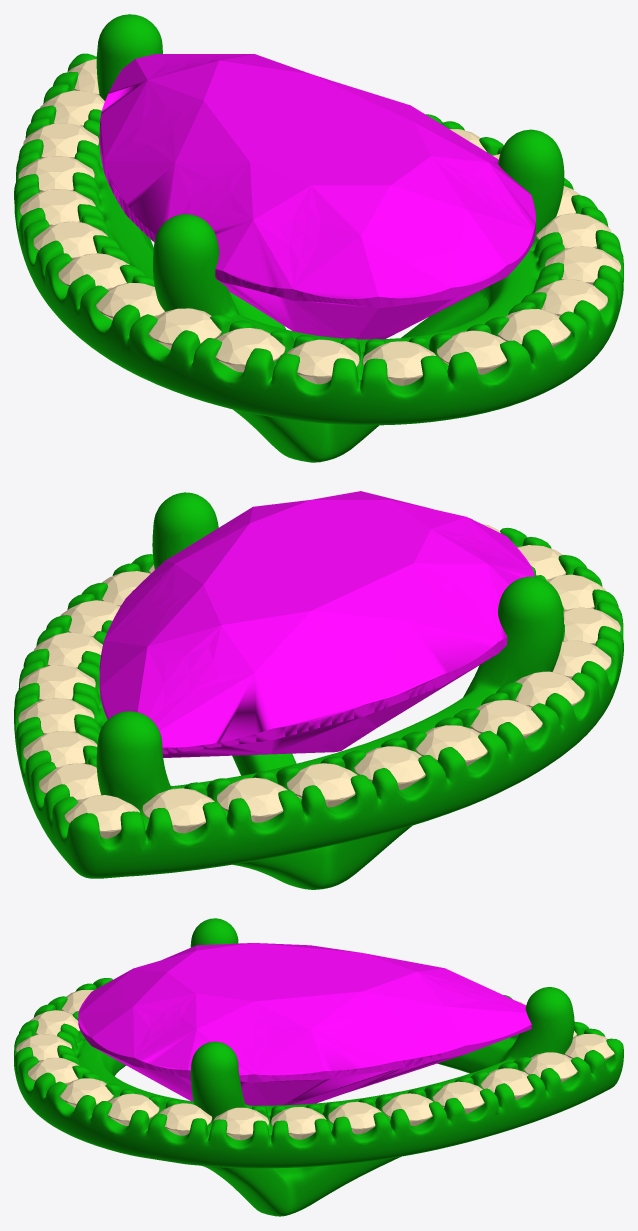
3 renders of one model, top to bottom at view 1: azimuth 30°, elevation 25°; view 2: azimuth 150°, elevation 25°; view 3: azimuth 270°, elevation 25°, orthographic. The views are drawn at different scales.
Visible parts, largest first — view 1: Diamond_Pear, Metal01, Diamond_Round.008, Diamond_Round.006, Diamond_Round.009, Diamond_Round.007, Diamond_Round.010, Diamond_Round.005, Diamond_Round.004, Diamond_Round.003, Diamond_Round.012, Diamond_Round.013 (+7 smaller); view 2: Diamond_Pear, Metal01, Diamond_Round.016, Diamond_Round.015, Diamond_Round.017, Diamond_Round.014, Diamond_Round.012, Diamond_Round.013, Diamond_Round.011, Diamond_Round.022, Diamond_Round.021, Diamond_Round.020 (+9 smaller); view 3: Diamond_Pear, Metal01, Diamond_Round, Diamond_Round.022, Diamond_Round.001, Diamond_Round.003, Diamond_Round.023, Diamond_Round.002, Diamond_Round.021, Diamond_Round.004, Diamond_Round.020, Diamond_Round.019 (+5 smaller).
Part boxes in pixels (left/top/right/bottom): Diamond_Pear: left=99, top=54, right=535, bottom=339; Metal01: left=14, top=14, right=623, bottom=462; Diamond_Round.008: left=287, top=339, right=359, bottom=384; Diamond_Round.006: left=437, top=330, right=506, bottom=374; Diamond_Round.009: left=215, top=328, right=285, bottom=372; Diamond_Round.007: left=362, top=341, right=436, bottom=385; Diamond_Round.010: left=148, top=308, right=221, bottom=349; Diamond_Round.005: left=497, top=309, right=570, bottom=347; Diamond_Round.004: left=534, top=279, right=607, bottom=316; Diamond_Round.003: left=545, top=246, right=620, bottom=284; Diamond_Round.012: left=58, top=253, right=129, bottom=290; Diamond_Round.013: left=33, top=221, right=107, bottom=260; Diamond_Pear: left=99, top=491, right=534, bottom=757; Metal01: left=14, top=492, right=623, bottom=889; Diamond_Round.016: left=217, top=777, right=287, bottom=822; Diamond_Round.015: left=287, top=763, right=357, bottom=807; Diamond_Round.017: left=142, top=788, right=214, bottom=833; Diamond_Round.014: left=354, top=746, right=425, bottom=789; Diamond_Round.012: left=470, top=700, right=542, bottom=738; Diamond_Round.013: left=415, top=725, right=487, bottom=766; Diamond_Round.011: left=514, top=671, right=584, bottom=707; Diamond_Round.022: left=20, top=665, right=95, bottom=700; Diamond_Round.021: left=18, top=698, right=94, bottom=734; Diamond_Round.020: left=23, top=731, right=97, bottom=768; Diamond_Pear: left=78, top=943, right=531, bottom=1105; Metal01: left=14, top=918, right=623, bottom=1216; Diamond_Round: left=271, top=1107, right=326, bottom=1139; Diamond_Round.022: left=382, top=1093, right=433, bottom=1125; Diamond_Round.001: left=213, top=1107, right=268, bottom=1140; Diamond_Round.003: left=108, top=1093, right=159, bottom=1125; Diamond_Round.023: left=328, top=1101, right=381, bottom=1134; Diamond_Round.002: left=159, top=1103, right=212, bottom=1135; Diamond_Round.021: left=432, top=1081, right=484, bottom=1113; Diamond_Round.004: left=60, top=1078, right=113, bottom=1107; Diamond_Round.020: left=480, top=1068, right=533, bottom=1100; Diamond_Round.019: left=524, top=1052, right=577, bottom=1082.
Bounding box in the file's own units: 11.48 × 7.34 × 17.02.
